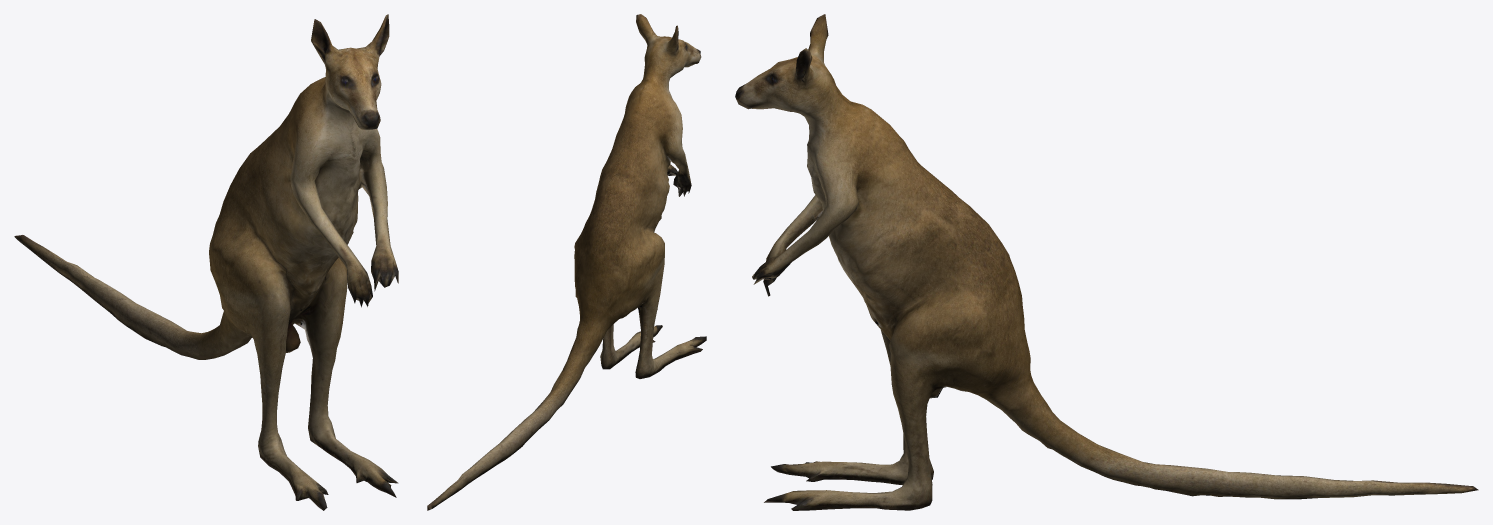
The model's file is Wallaby.fbx.
3 views of the same model, side by side, from view 1: azimuth 30°, elevation 25°; view 2: azimuth 150°, elevation 25°; view 3: azimuth 270°, elevation 25° (orthographic). The views are drawn at different scales.
Visible parts, largest first — view 1: M32011_RedKangaroo_5KforSK01; view 2: M32011_RedKangaroo_5KforSK01; view 3: M32011_RedKangaroo_5KforSK01.
Part boxes in pixels (<box>): M32011_RedKangaroo_5KforSK01: <box>14,14,398,510</box>; M32011_RedKangaroo_5KforSK01: <box>427,14,706,510</box>; M32011_RedKangaroo_5KforSK01: <box>735,14,1478,510</box>.
Bounding box in the file's own units: 1903 × 8338 × 12037.
